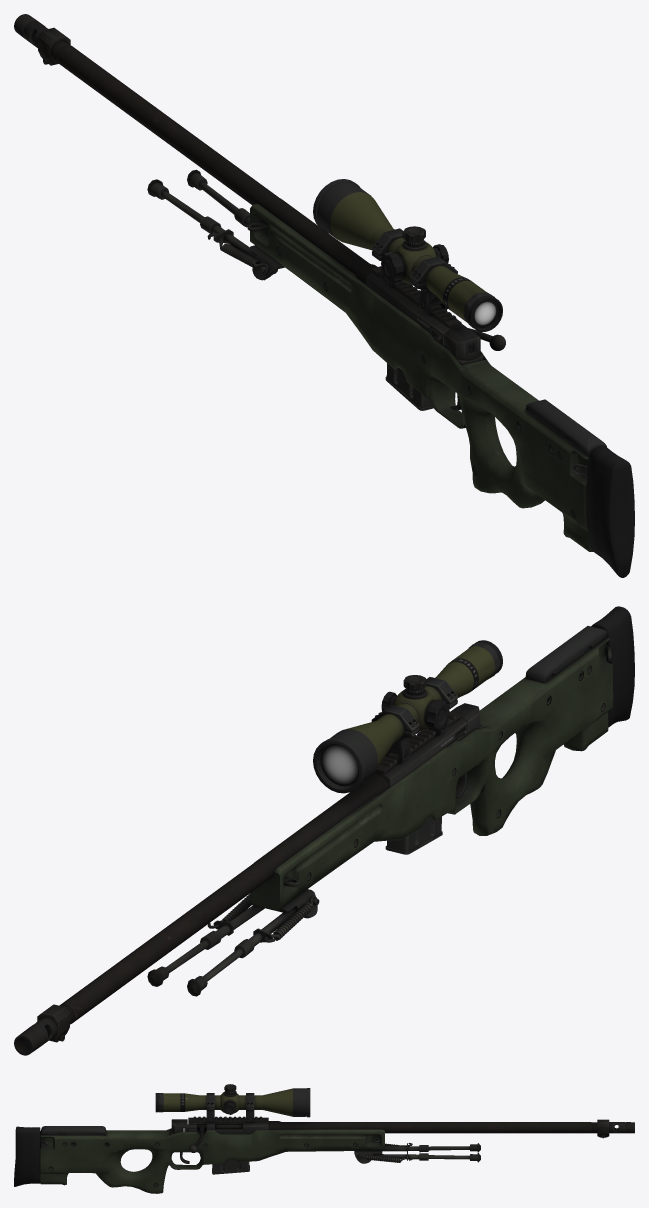
File: awp.obj
3 views of the same model, one above another, from view 1: azimuth 30°, elevation 25°; view 2: azimuth 150°, elevation 25°; view 3: azimuth 270°, elevation 25° (orthographic). The views are drawn at different scales.
Visible parts, largest first — view 1: Model; view 2: Model; view 3: Model.
Part boxes in pixels (x1,y1,x2,y2): Model: (14, 14, 634, 577); Model: (14, 606, 634, 1055); Model: (14, 1084, 634, 1193).
Size of the model in its own units: 0.1594 by 0.3536 by 1.88.
2 materials, 2 textured.
